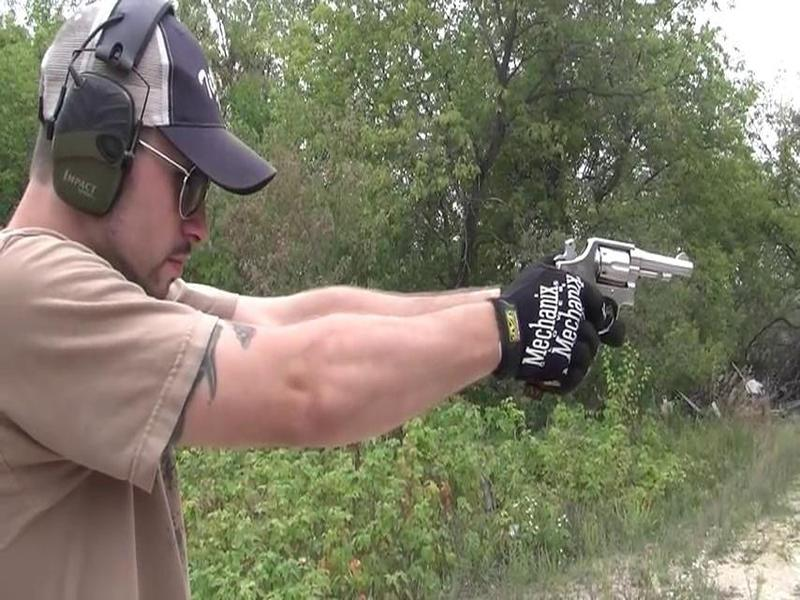Revolver: (542, 230, 706, 347)
